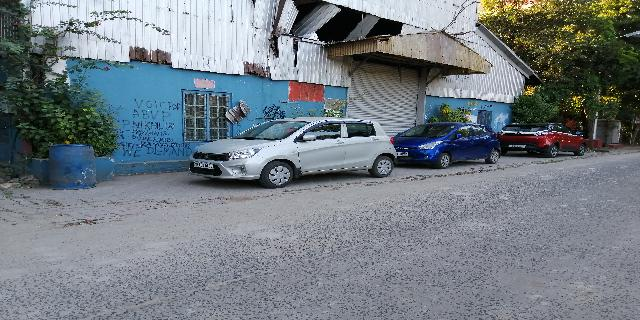Car: (189, 113, 399, 188), (389, 123, 501, 167), (496, 118, 588, 160)
